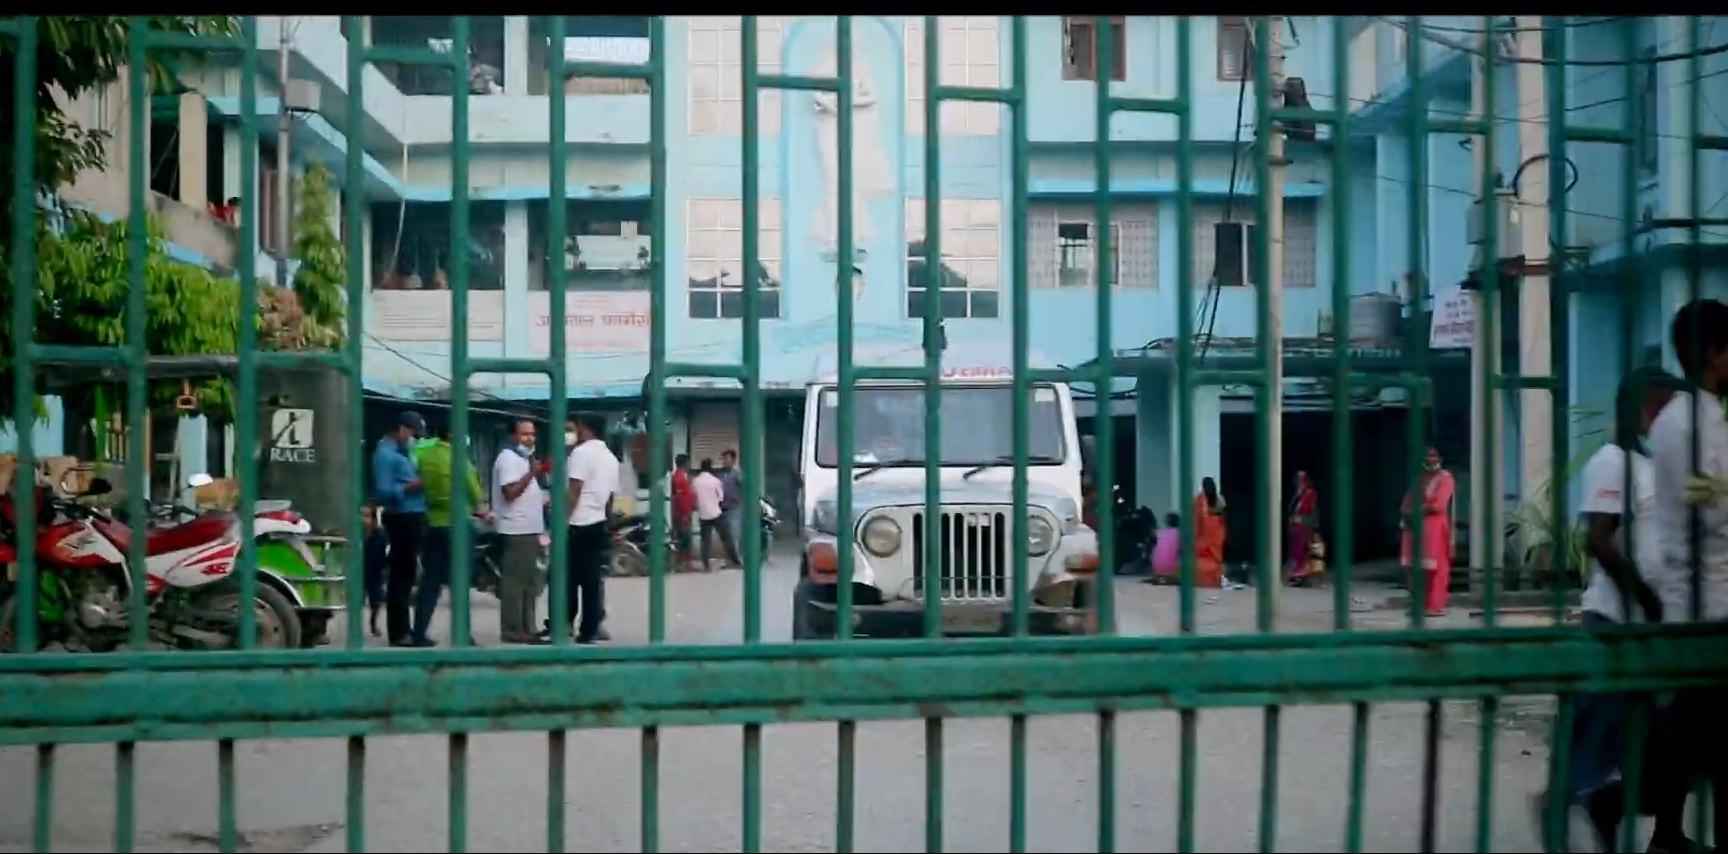ambulance: (797, 332, 1124, 651)
